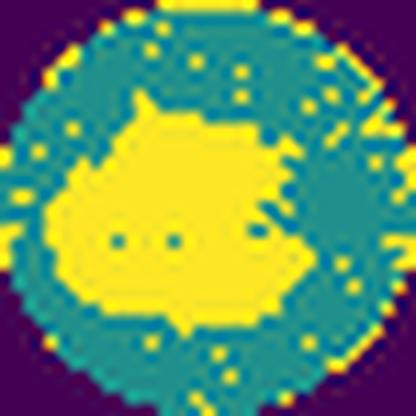Center: (44, 82, 319, 332)
